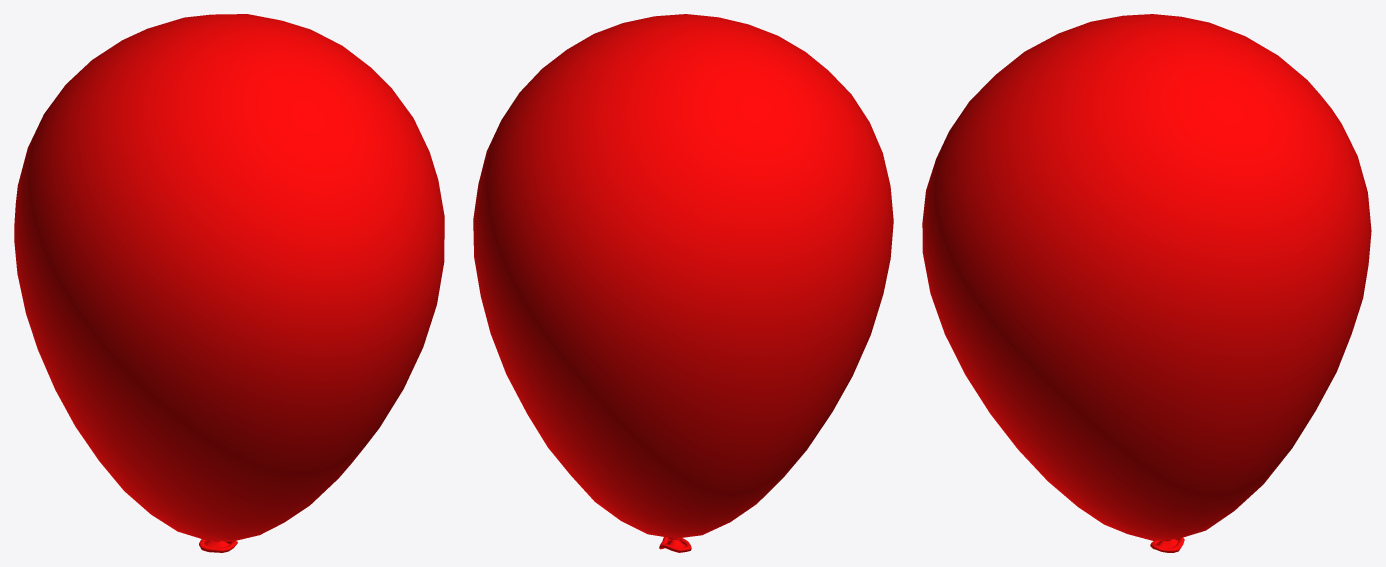
The model's file is Balloon.fbx.
The picture shows the model from 3 angles, left to right: view 1: azimuth 30°, elevation 25°; view 2: azimuth 150°, elevation 25°; view 3: azimuth 270°, elevation 25°; orthographic projection. The views are drawn at different scales.
Visible parts, largest first — view 1: ballon.001; view 2: ballon.001; view 3: ballon.001.
Boxes of the visible parts, left/top/right/bottom form: ballon.001: left=14, top=14, right=444, bottom=552; ballon.001: left=473, top=14, right=893, bottom=552; ballon.001: left=922, top=14, right=1371, bottom=552.
Size of the model in its own units: 9845 by 13322 by 10541.
